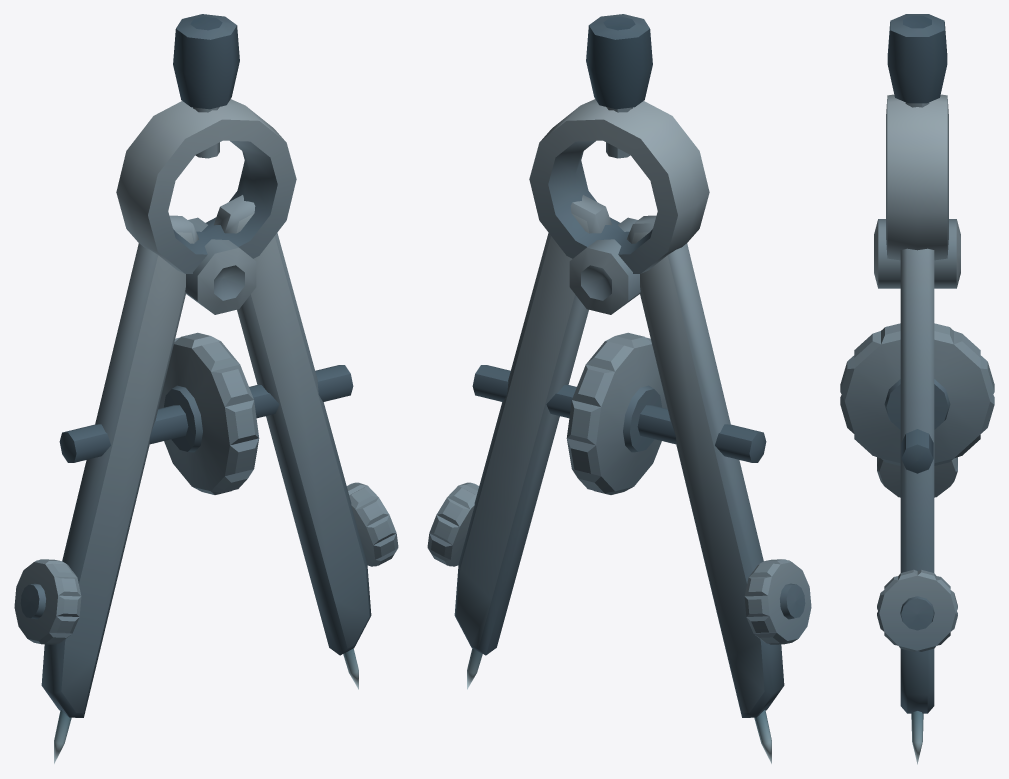
Rendered from drafting_compass.glb.
3 renders of one model, left to right at view 1: azimuth 30°, elevation 25°; view 2: azimuth 150°, elevation 25°; view 3: azimuth 270°, elevation 25°, orthographic. The views are drawn at different scales.
Visible parts, largest first — view 1: drafting_compass, drafting_compass_legRight, drafting_compass_legLeft, drafting_compass_wheel; view 2: drafting_compass, drafting_compass_legRight, drafting_compass_legLeft, drafting_compass_wheel; view 3: drafting_compass, drafting_compass_legLeft, drafting_compass_wheel, drafting_compass_legRight.
Boxes of the visible parts, x1,y1,x2,y2 form: drafting_compass: (59,14,353,462); drafting_compass_legRight: (14,215,198,763); drafting_compass_legLeft: (214,195,398,689); drafting_compass_wheel: (158,332,259,494); drafting_compass: (472,14,766,462); drafting_compass_legRight: (627,215,811,763); drafting_compass_legLeft: (427,195,611,689); drafting_compass_wheel: (566,332,667,494); drafting_compass: (874,14,960,473); drafting_compass_legLeft: (877,248,957,764); drafting_compass_wheel: (840,323,994,465); drafting_compass_legRight: (877,457,957,497).
Size of the model in its own units: 0.2747 by 0.5125 by 0.1066.
Materials: 1 (1 with a texture image).
